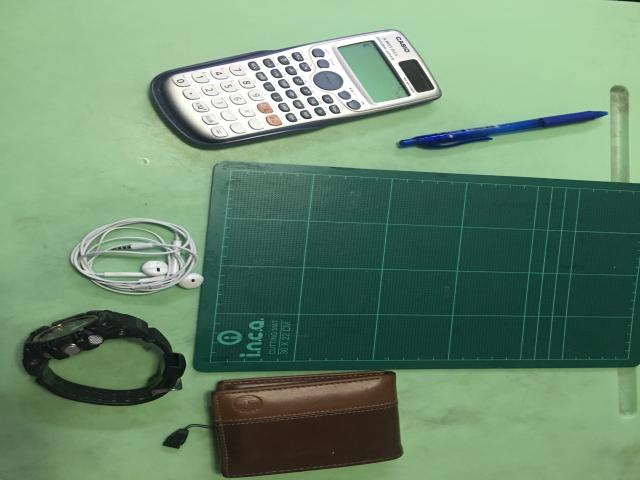Pen: (398, 111, 608, 147)
Wallet: (212, 370, 403, 477)
Watch: (23, 310, 185, 406)
wire: (70, 218, 203, 294)
